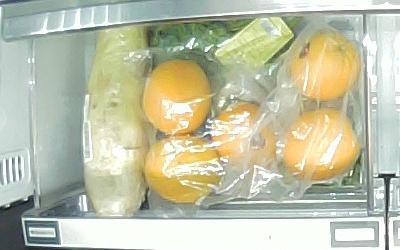orange_vinyl: (280, 108, 359, 182), (143, 59, 211, 136), (288, 30, 360, 101), (145, 135, 221, 202), (211, 102, 277, 168)
